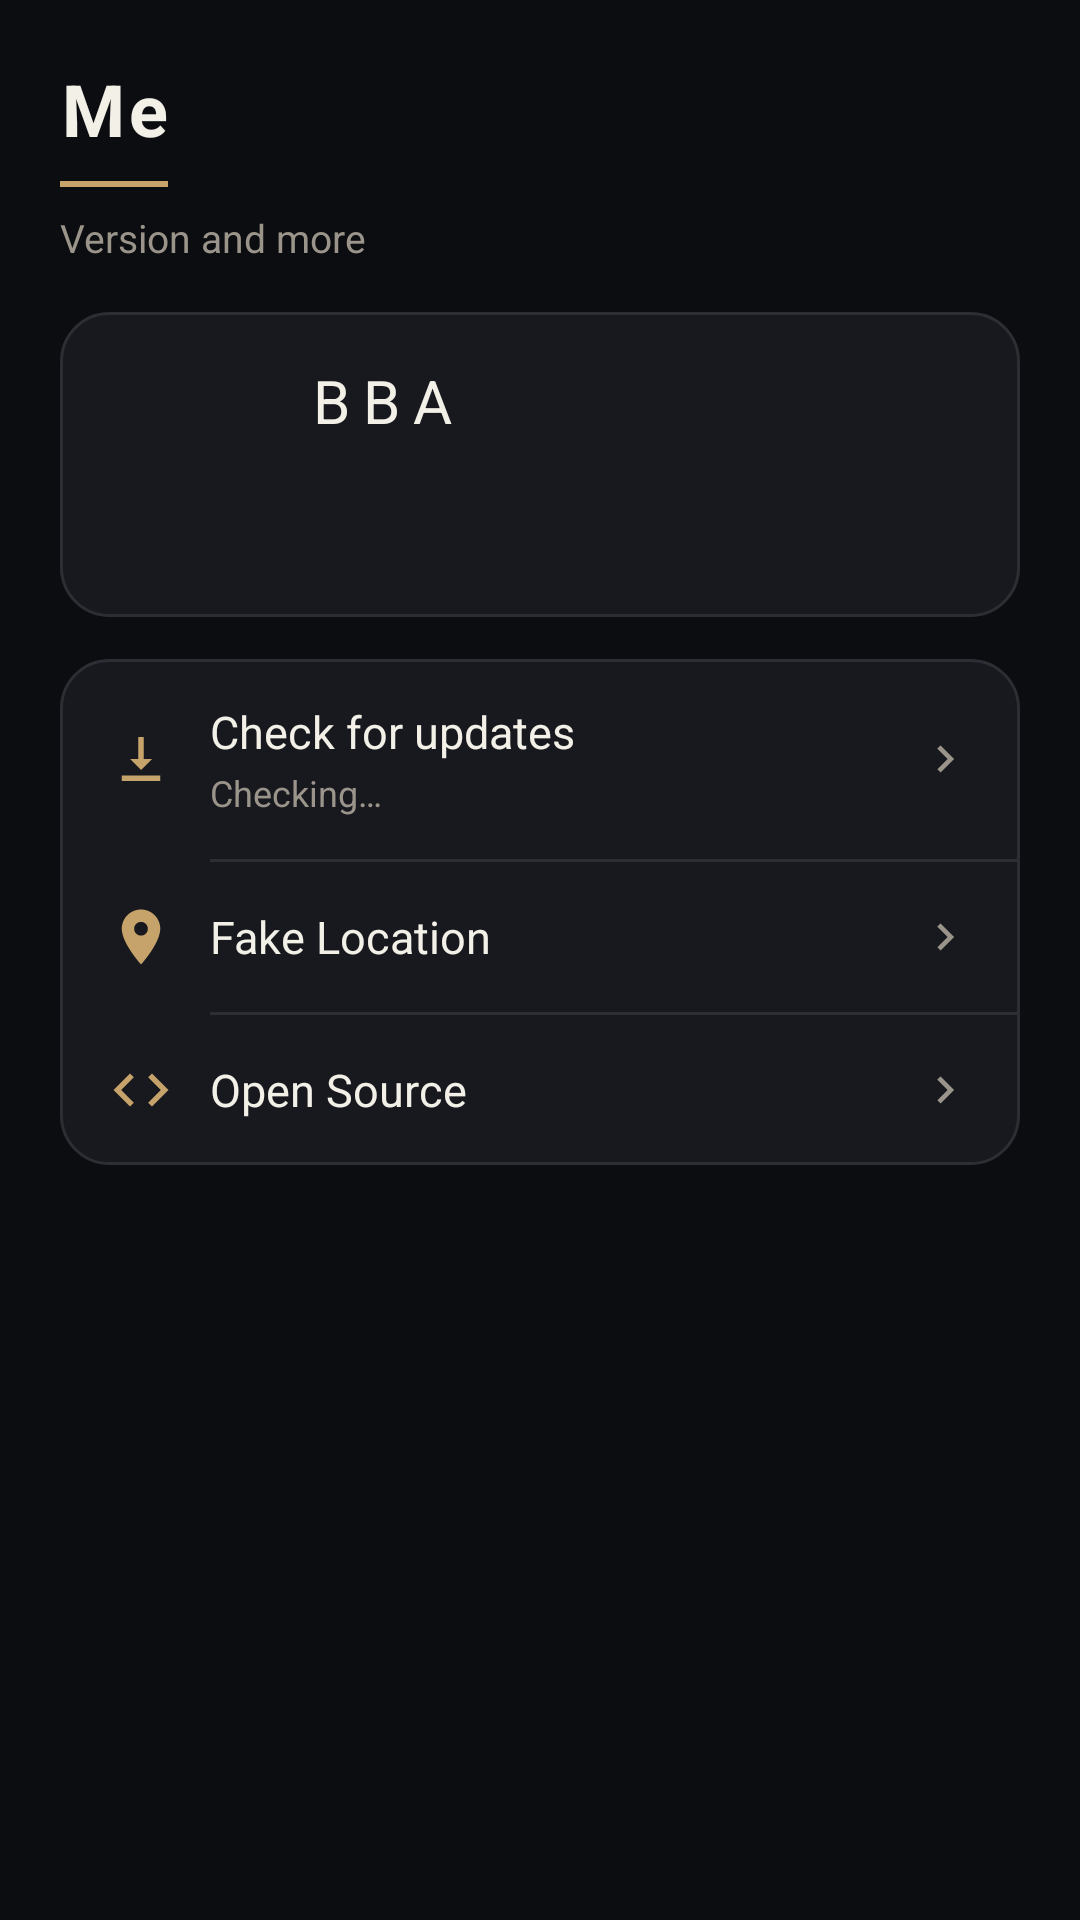

Screen size 1080 × 1920. Icon name, then its center in pixels as (x=x, y=y):
chevron: (x=945, y=759), (x=945, y=937), (x=945, y=1090)
row code: (x=141, y=1090)
row location: (x=141, y=936)
row update: (x=141, y=759)
